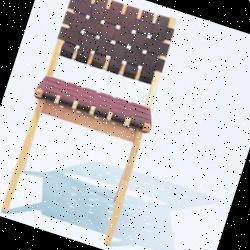Silla: (0, 0, 185, 248)
